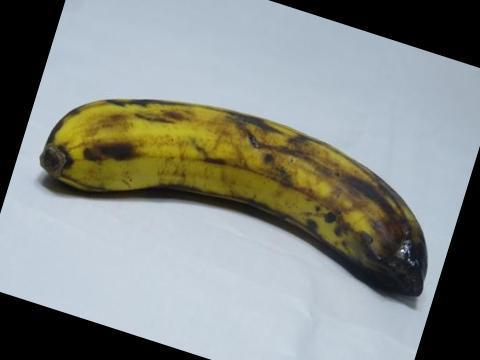overripe: (38, 85, 445, 318)
rotten: (341, 201, 440, 309)
